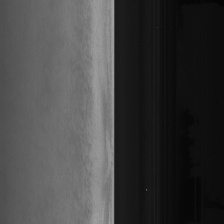silk_spot: (75, 58, 91, 151)
